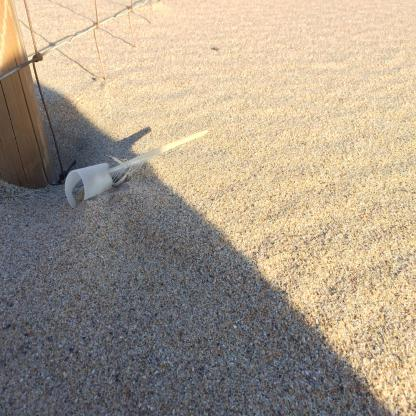plastik: (64, 162, 113, 209)
